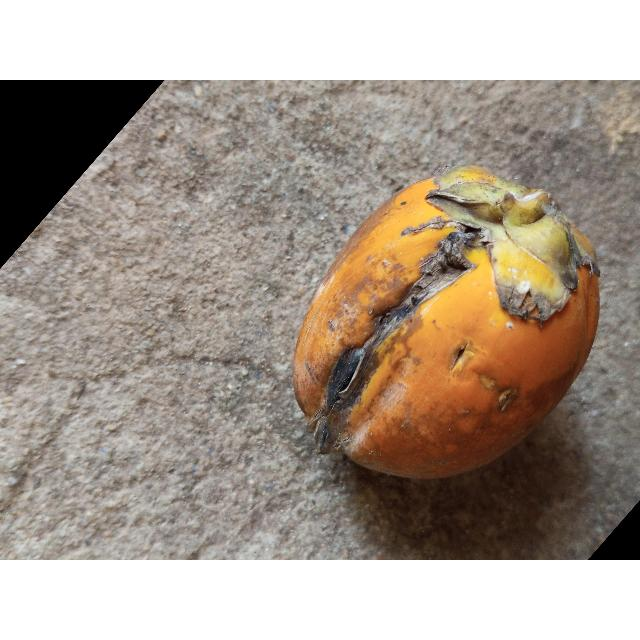damaged: (291, 166, 600, 481)
